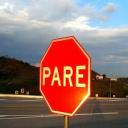Pare: (35, 33, 97, 122)
